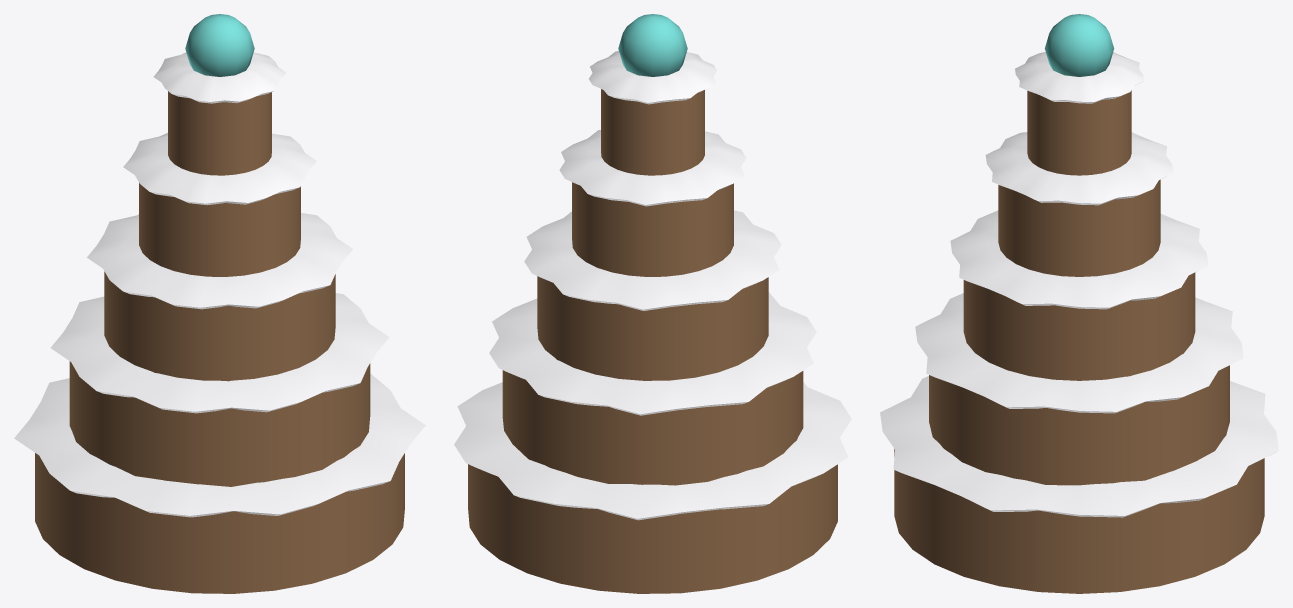
File: CakeTower.fbx
3 views of the same model, side by side, from view 1: azimuth 30°, elevation 25°; view 2: azimuth 150°, elevation 25°; view 3: azimuth 270°, elevation 25° (orthographic).
Parts seen in each view (by area): view 1: CakeTower; view 2: CakeTower; view 3: CakeTower.
Boxes of the visible parts, <box> form: CakeTower: <box>14,14,425,593</box>; CakeTower: <box>454,14,851,593</box>; CakeTower: <box>880,14,1278,593</box>.
Bounding box in the file's own units: 6.89 × 9.5 × 6.89.
